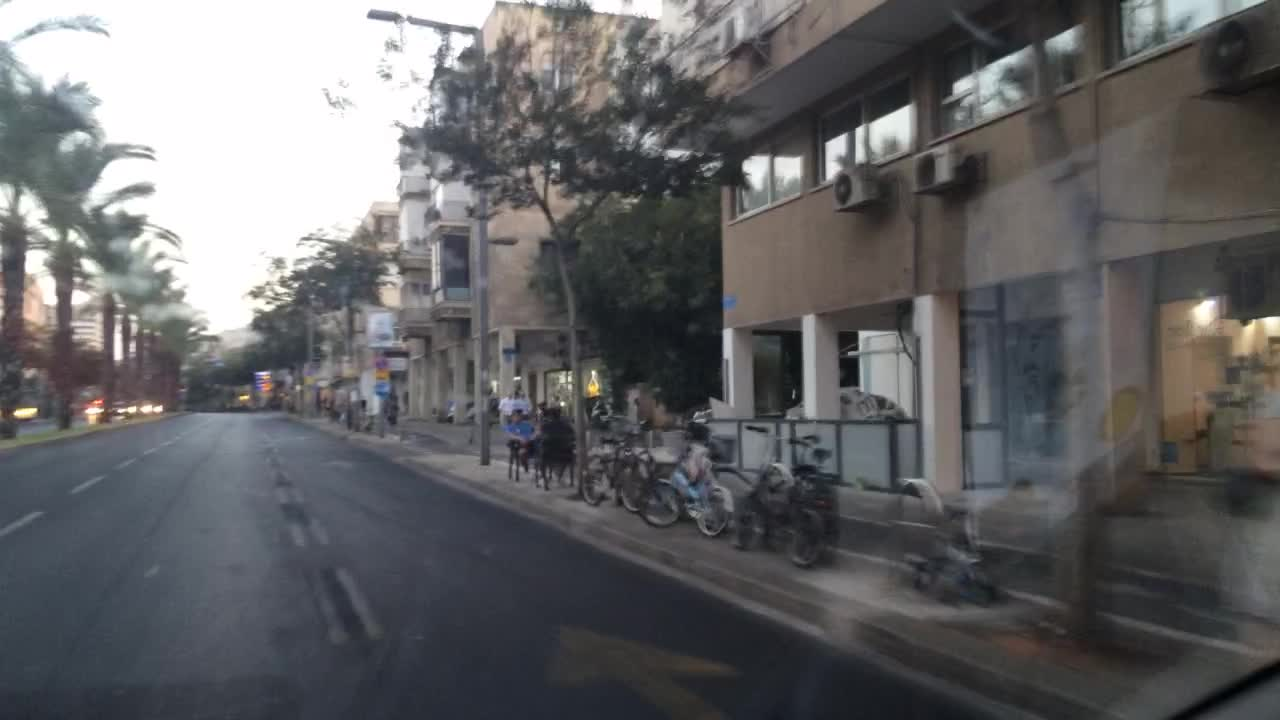bike: (743, 423, 842, 564), (636, 442, 735, 540), (735, 460, 827, 564), (600, 445, 686, 530), (902, 537, 1002, 606), (583, 434, 646, 514)
car: (112, 401, 141, 416), (12, 403, 39, 418), (82, 401, 106, 416), (141, 401, 155, 416), (155, 403, 167, 413)
person: (535, 405, 574, 482), (505, 411, 538, 471), (500, 391, 511, 424), (521, 390, 533, 418), (389, 396, 399, 424), (512, 390, 519, 422)
